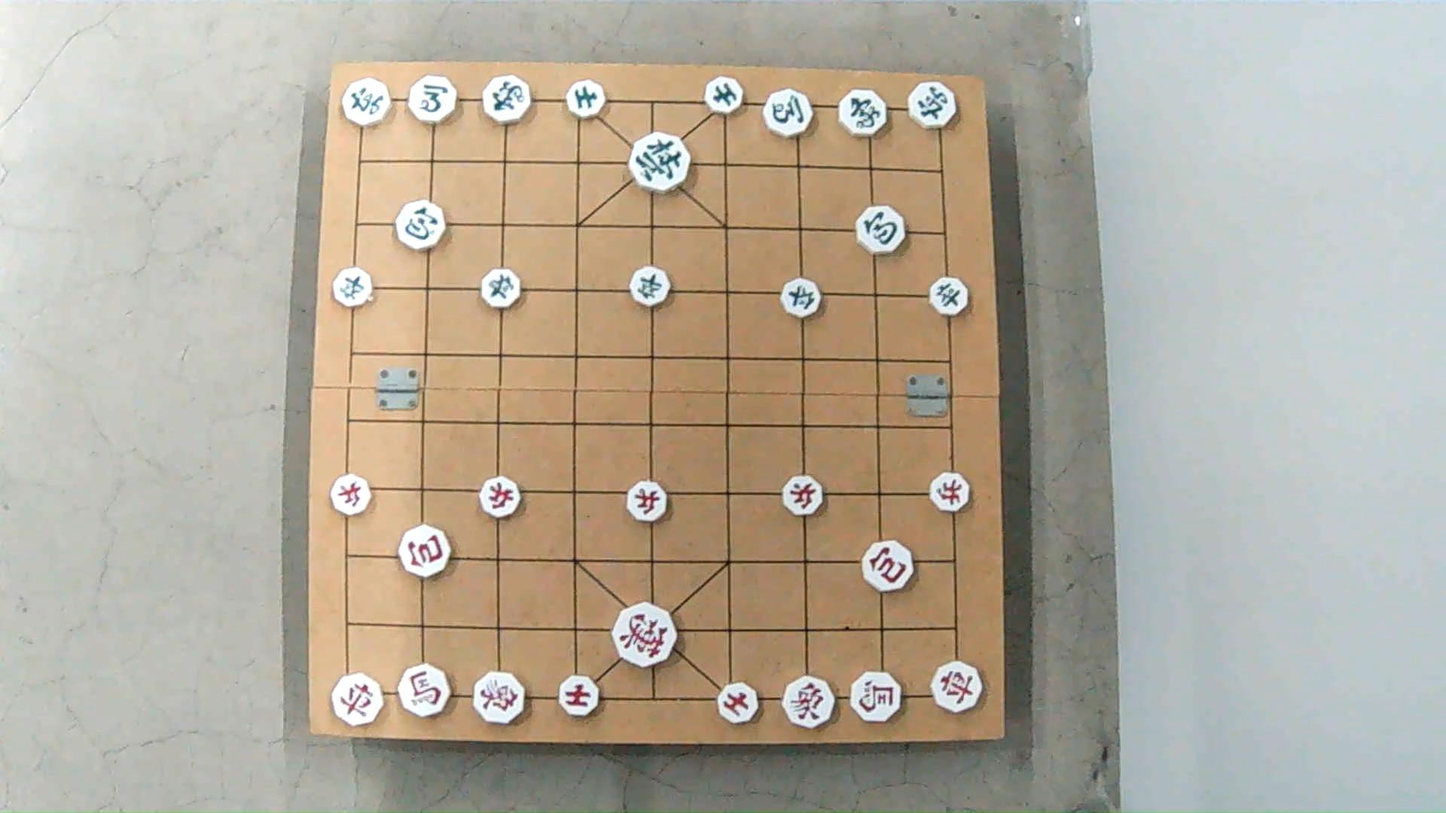cha_green: (341, 78, 392, 129), (906, 82, 955, 127)
cha_red: (331, 672, 384, 725), (932, 662, 985, 709)
jol_green: (629, 266, 670, 305), (479, 269, 521, 307), (780, 281, 823, 318), (329, 269, 371, 306), (931, 280, 972, 316)
jol_red: (478, 478, 521, 517), (328, 477, 371, 516), (783, 478, 826, 516), (627, 483, 668, 522), (930, 474, 972, 512)
ma_green: (764, 88, 816, 134), (410, 78, 459, 121)
ma_red: (849, 669, 901, 722), (398, 665, 452, 715)
po_green: (394, 201, 445, 249), (856, 207, 906, 253)
po_red: (397, 527, 450, 576), (861, 543, 914, 592)
sa_green: (563, 82, 606, 118), (704, 78, 745, 114)
sa_red: (555, 674, 597, 715), (718, 681, 758, 720)
sang_green: (839, 87, 889, 138), (480, 77, 531, 121)
sang_red: (471, 671, 525, 726), (782, 673, 835, 728)
wang_green: (629, 132, 692, 189)
wang_red: (615, 605, 680, 665)
